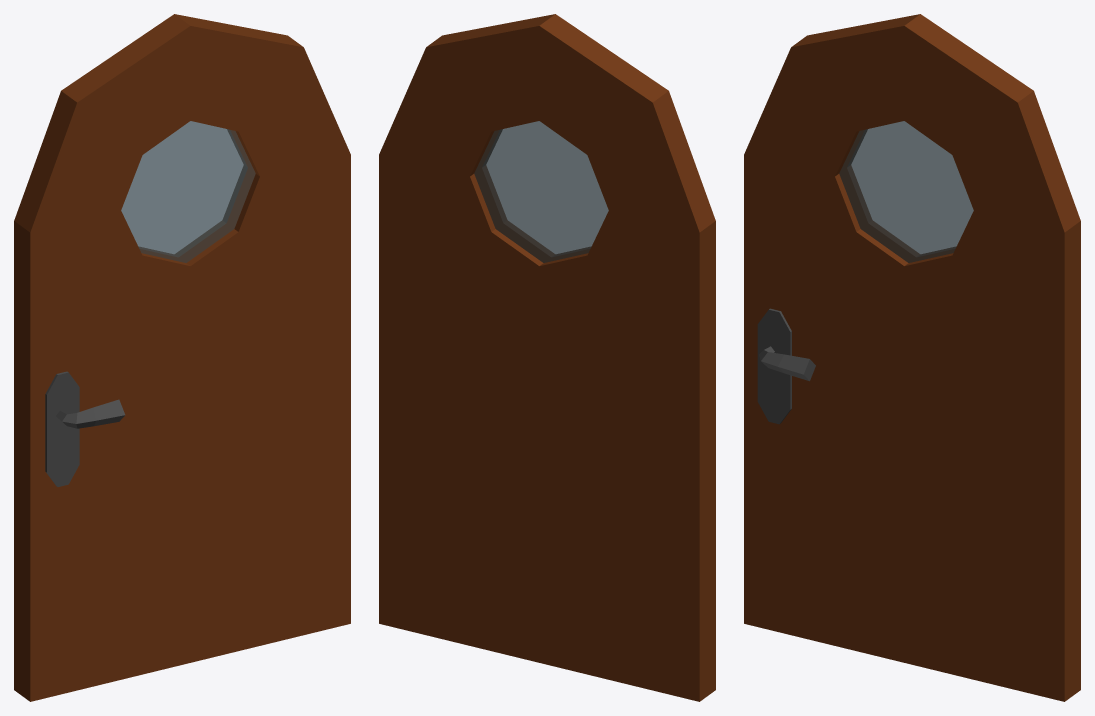
Rendered from Porte.fbx.
3 views of the same model, side by side, from view 1: azimuth 30°, elevation 25°; view 2: azimuth 150°, elevation 25°; view 3: azimuth 330°, elevation 25° (orthographic).
Visible parts, largest first — view 1: Porte, Plane, Poignee; view 2: Porte; view 3: Porte, Plane, Poignee.
Part boxes in pixels (bbox=[...]): Porte: bbox=[14, 14, 350, 701]; Plane: bbox=[45, 371, 79, 486]; Poignee: bbox=[56, 399, 125, 428]; Porte: bbox=[379, 14, 715, 701]; Porte: bbox=[744, 14, 1080, 701]; Plane: bbox=[757, 308, 791, 424]; Poignee: bbox=[759, 346, 815, 381].
Size of the model in its own units: 100 by 190 by 18.36.
